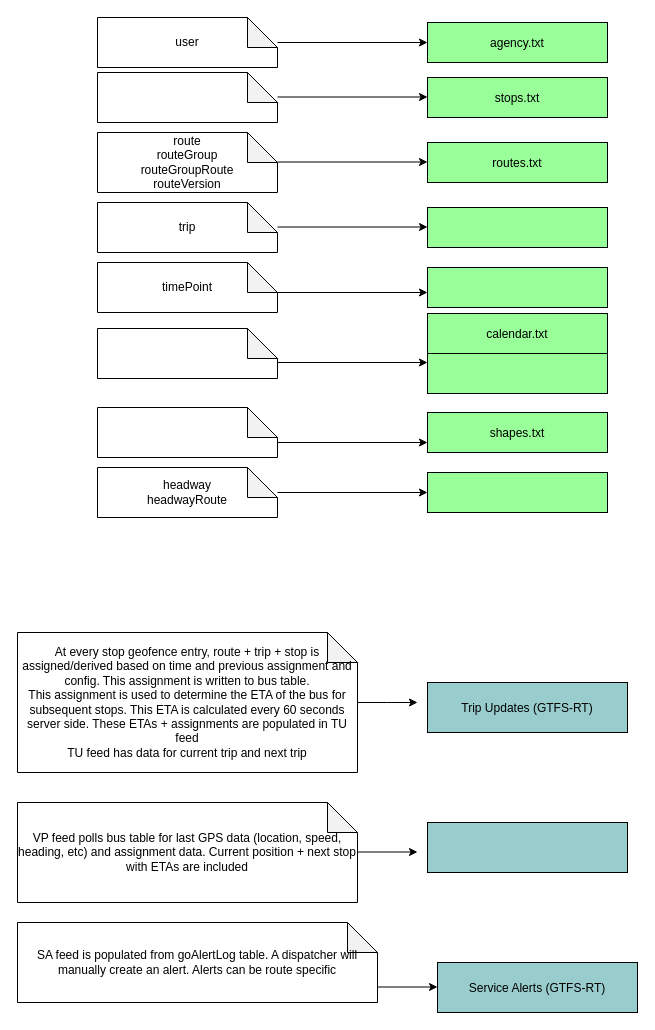
Some shapes in this 655 by 1030 pixel diagram are drawn without their labels. Each missing label, with the centre of its shape:
"calendar_dates.txt" belongs at point (517, 373).
"frequencies.txt" belongs at point (517, 492).
"routeCalendar routeBlockCalendar" belongs at point (187, 353).
"routePath routePathPoint routePathTrip" belongs at point (187, 432).
"stop" belongs at point (187, 97).
"stop_times.txt" belongs at point (517, 287).
"trips.txt" belongs at point (517, 227).
"Vehicle Positions (GTFS-RT)" belongs at point (527, 847).
